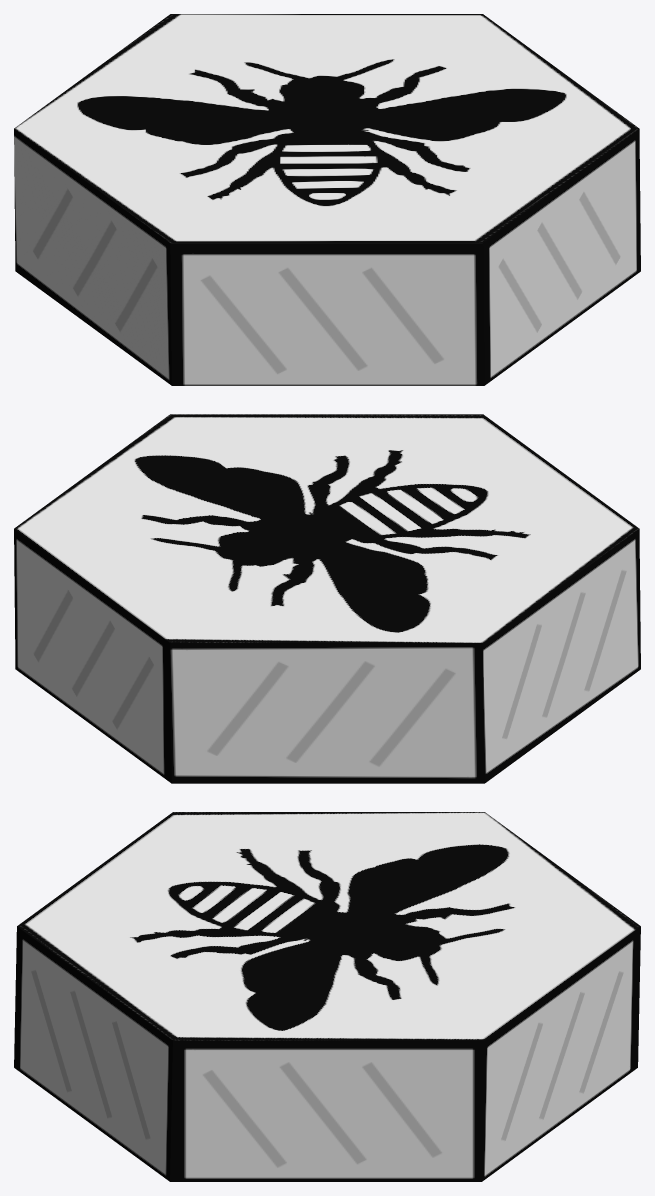
Rendered from piece.fbx.
3 renders of one model, top to bottom at view 1: azimuth 30°, elevation 25°; view 2: azimuth 150°, elevation 25°; view 3: azimuth 270°, elevation 25°, orthographic.
Parts seen in each view (by area): view 1: Hexagon; view 2: Hexagon; view 3: Hexagon.
Boxes of the visible parts, bbox=[...] form: Hexagon: bbox=[14, 14, 640, 385]; Hexagon: bbox=[14, 414, 640, 783]; Hexagon: bbox=[14, 812, 640, 1181].
Size of the model in its own units: 173 by 50 by 201.
